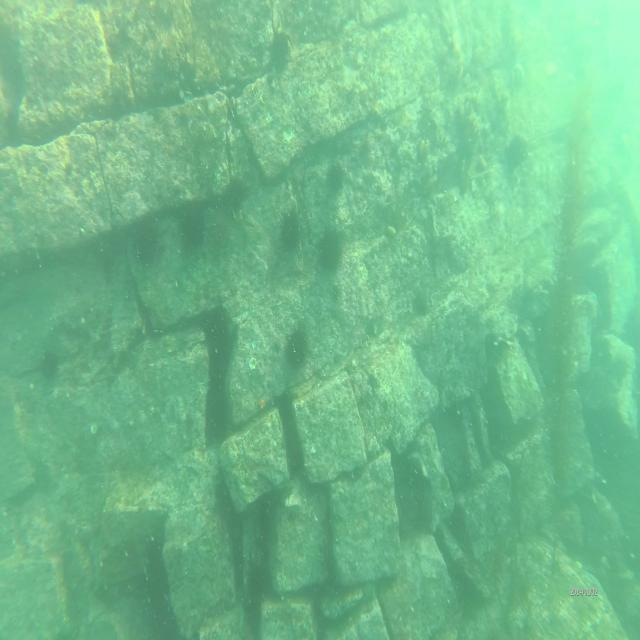echinus: (181, 208, 207, 250), (134, 223, 159, 262), (319, 226, 341, 270), (221, 178, 246, 216), (270, 28, 292, 71), (506, 134, 529, 174), (286, 329, 308, 370), (281, 214, 301, 254), (412, 287, 433, 320), (42, 346, 59, 381), (328, 163, 346, 196)
